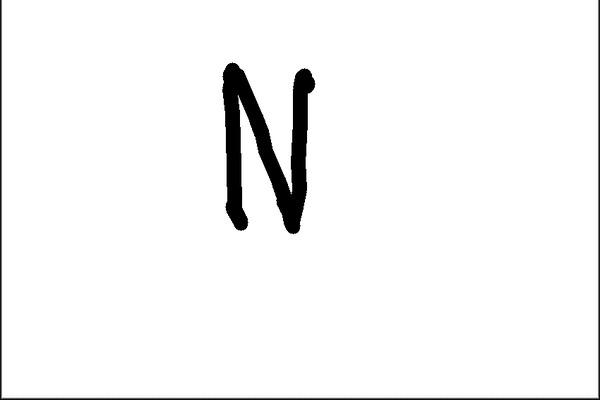N: (213, 58, 316, 241)
